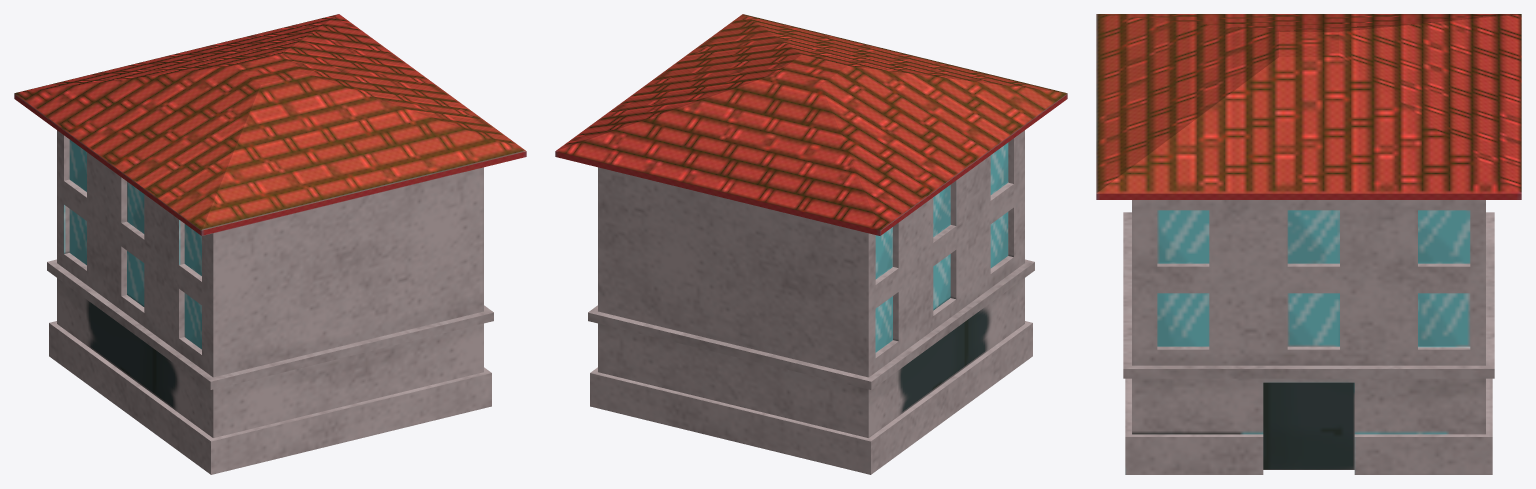
Rendered from doublestorrywithroof.fbx.
3 views of the same model, side by side, from view 1: azimuth 30°, elevation 25°; view 2: azimuth 150°, elevation 25°; view 3: azimuth 270°, elevation 25° (orthographic). The views are drawn at different scales.
Parts seen in each view (by area): view 1: Cube, Cube.001; view 2: Cube, Cube.001; view 3: Cube, Cube.001.
Part boxes in pixels (x1=…): Cube: x1=47, y1=130, x2=493, y2=474; Cube.001: x1=14, y1=14, x2=526, y2=235; Cube: x1=588, y1=130, x2=1034, y2=474; Cube.001: x1=555, y1=14, x2=1067, y2=235; Cube: x1=1123, y1=200, x2=1494, y2=474; Cube.001: x1=1096, y1=14, x2=1521, y2=199.
Bounding box in the file's own units: 1293 × 1184 × 1293.
